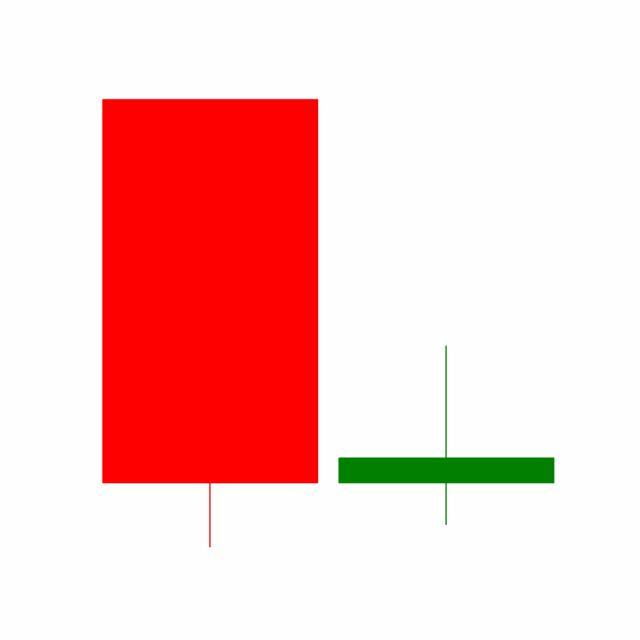Spinning Top: (328, 344, 566, 528)
